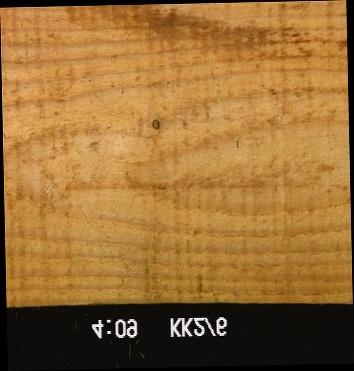dry_knot: (150, 118, 160, 130)
